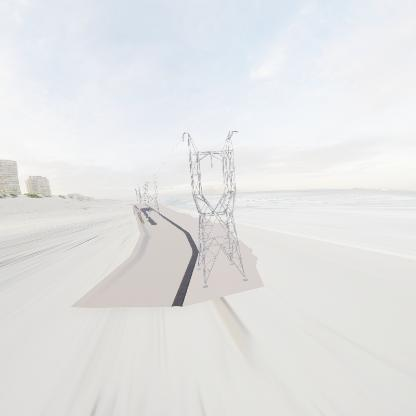tower: (179, 127, 248, 290)
